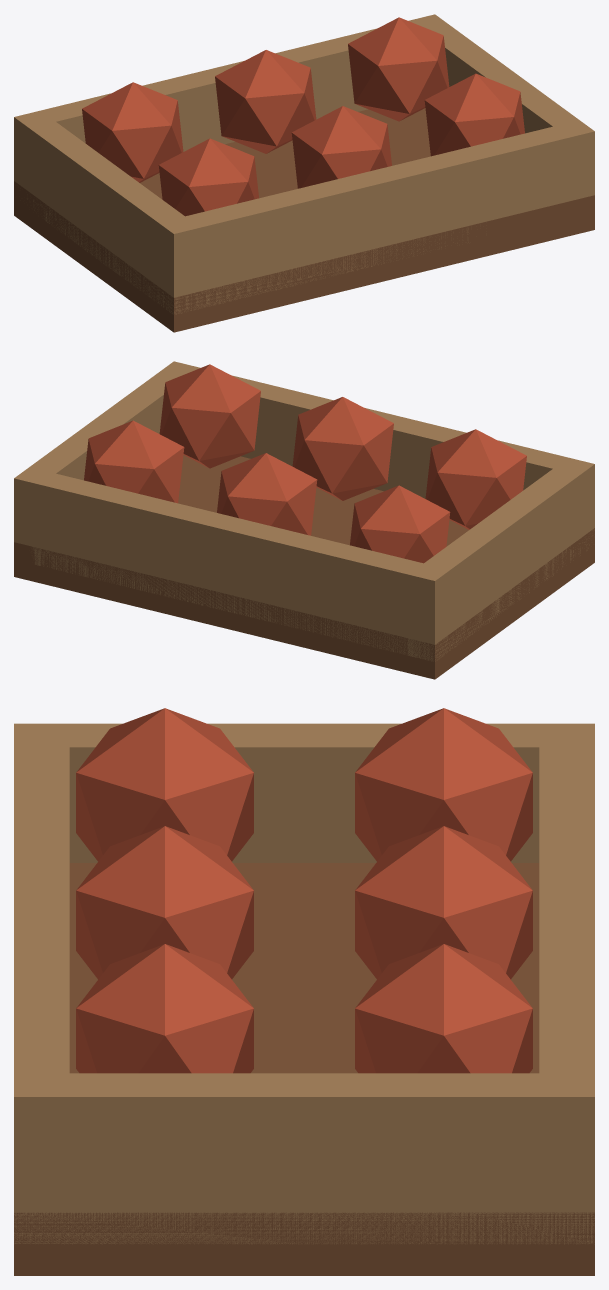
File: set_apple_tray.glb
3 renders of one model, top to bottom at view 1: azimuth 30°, elevation 25°; view 2: azimuth 150°, elevation 25°; view 3: azimuth 270°, elevation 25°, orthographic. The views are drawn at different scales.
Visible parts, largest first — view 1: set_apple_tray; view 2: set_apple_tray; view 3: set_apple_tray.
Boxes of the visible parts, box(x1,y1,x2,y2) form: set_apple_tray: box(14, 14, 594, 332); set_apple_tray: box(14, 361, 594, 679); set_apple_tray: box(14, 708, 594, 1275).
Bounding box in the file's own units: 0.38 × 0.125 × 0.25.
